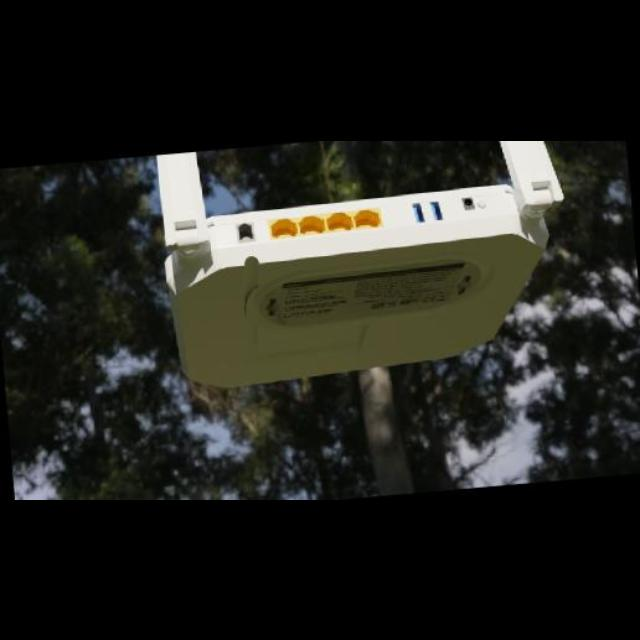Router: (153, 140, 572, 402)
